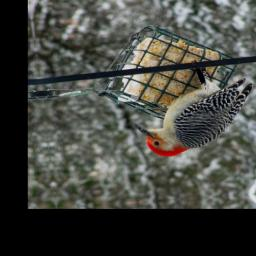Woodpecker: (129, 61, 256, 159)
